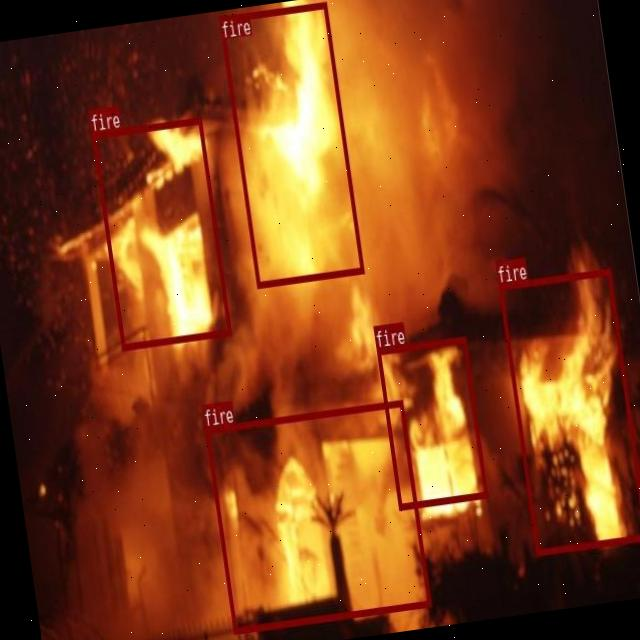fire: (205, 399, 431, 633), (219, 2, 364, 288), (497, 267, 640, 555), (91, 115, 231, 348), (376, 335, 488, 510)
